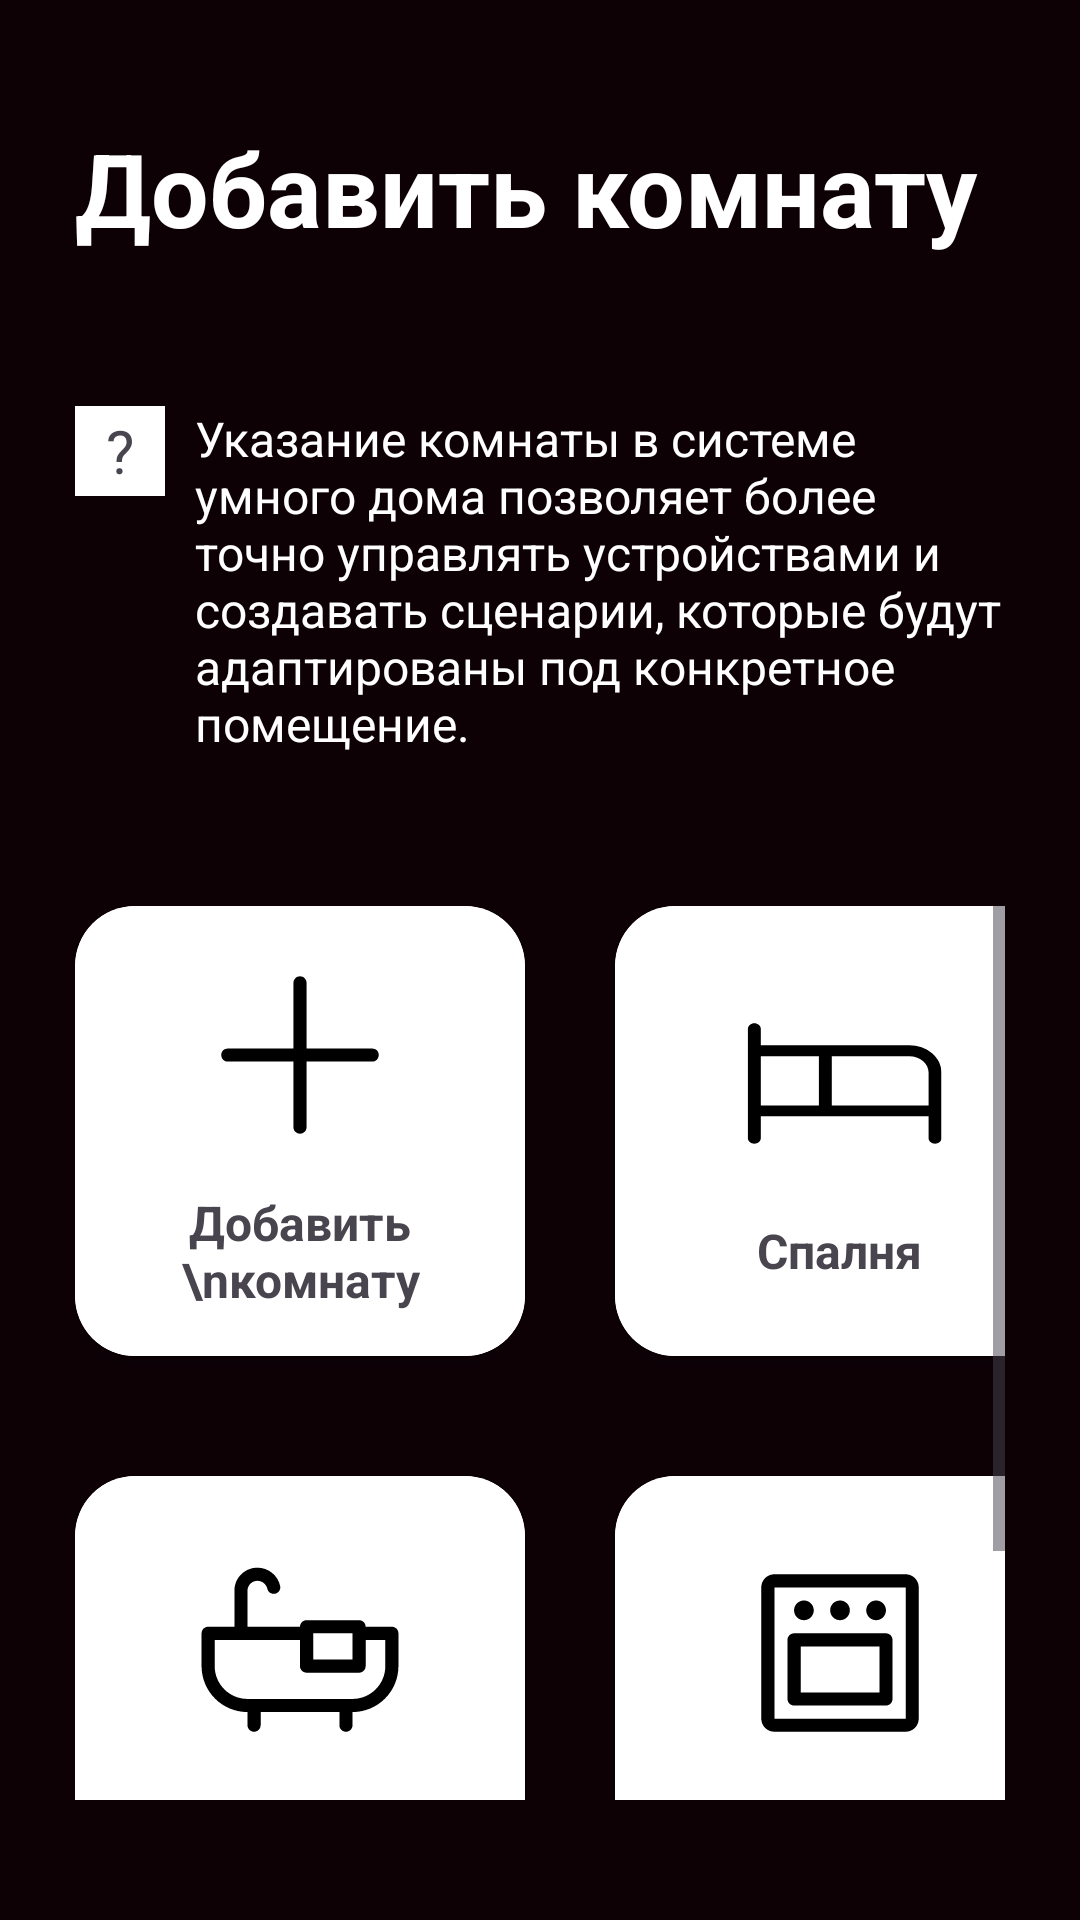

Screen size 1080×1920. Icon name, then its box in pixels as (x1, y1, x2, y2):
bathtub: (201, 1567, 399, 1732)
bed: (748, 1023, 942, 1144)
oven: (761, 1574, 919, 1732)
plus: (221, 976, 379, 1134)
